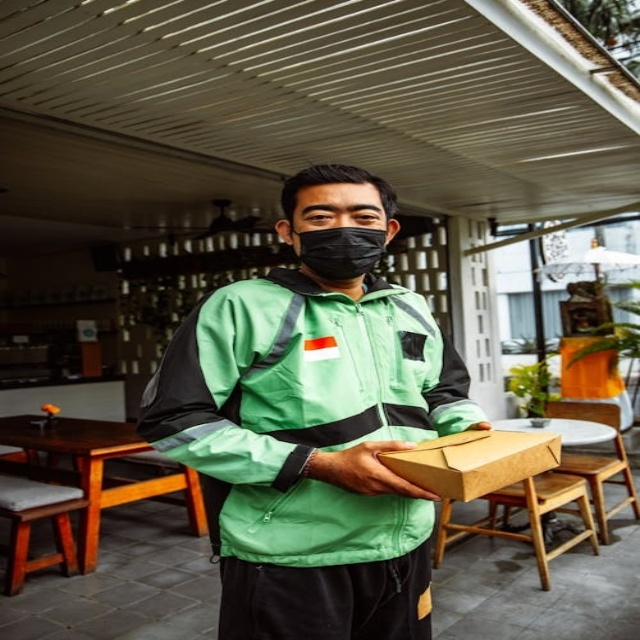Mascara: (293, 226, 388, 278)
Sin_gafas: (297, 200, 384, 224)
Sin_guantes: (319, 433, 442, 504)
